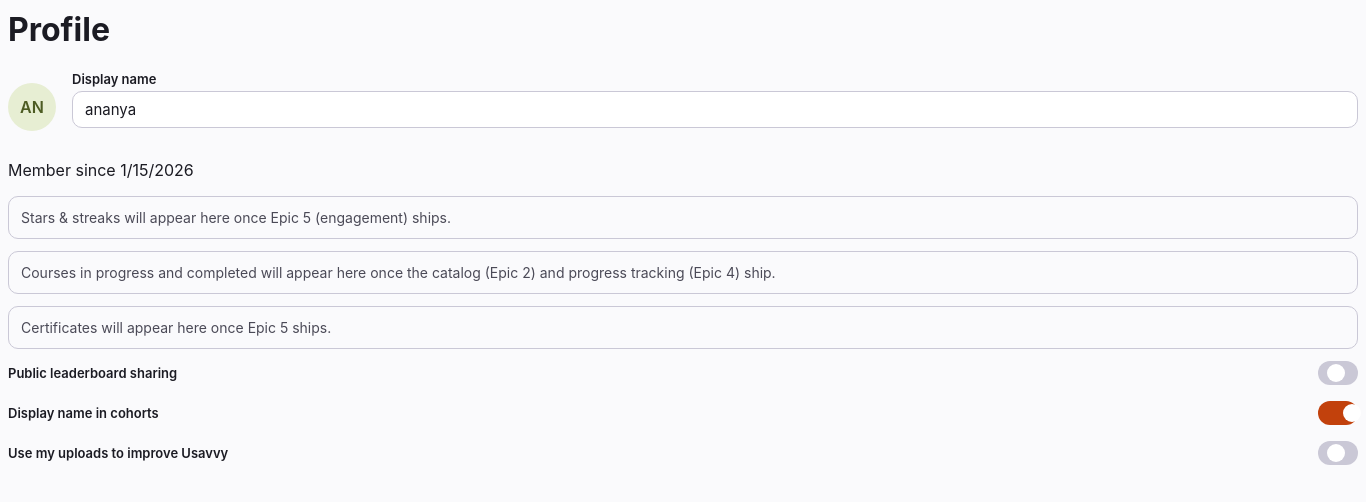
Test: ProfilePage › reverts a privacy toggle and shows an inline error when its save fails
The width and height of the screenshot is (1366, 502).
What coordinates should you click on to do the following:
click the switch named "Public leaderboard sharing"
I would click on:
 (1338, 373)
Its box is x1=1318 y1=361 x2=1358 y2=385.
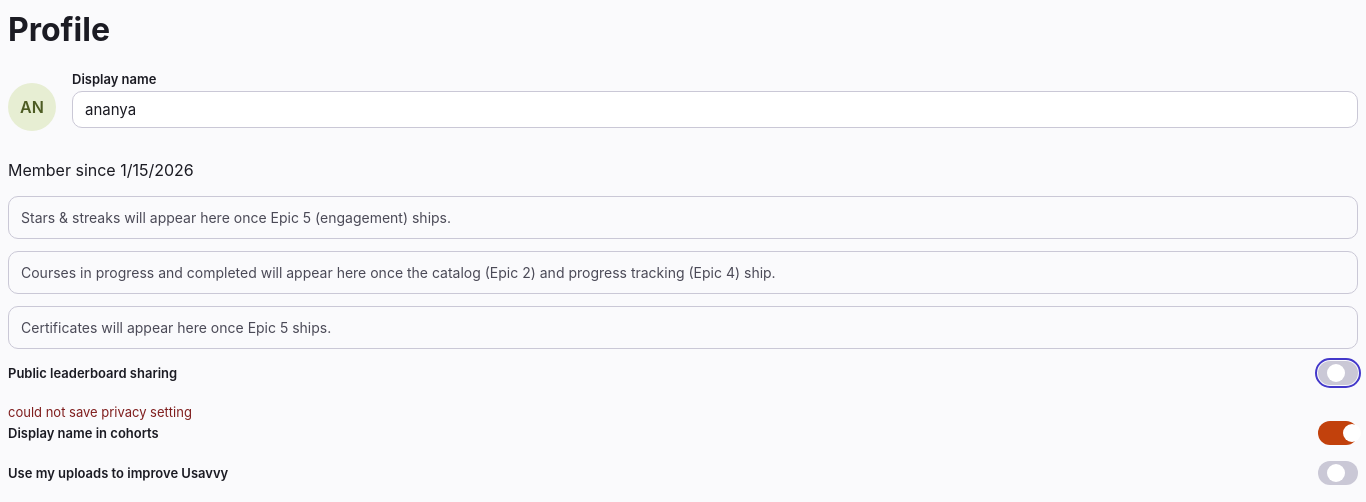
Check: the text "could not save privacy setting" is shown, box x1=8 y1=404 x2=192 y2=420
